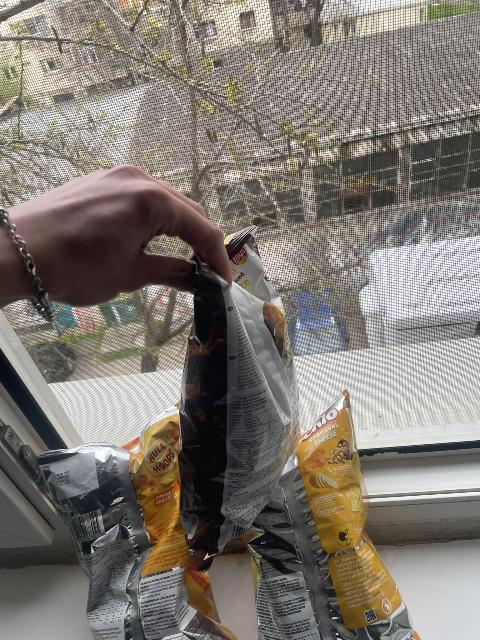Chio Cascaval 125g: (238, 392, 427, 639)
Chio Hula Hoops Cheese 70g: (27, 421, 232, 640)
Lays Beef Grilled Ribs 125g: (179, 222, 299, 550)
